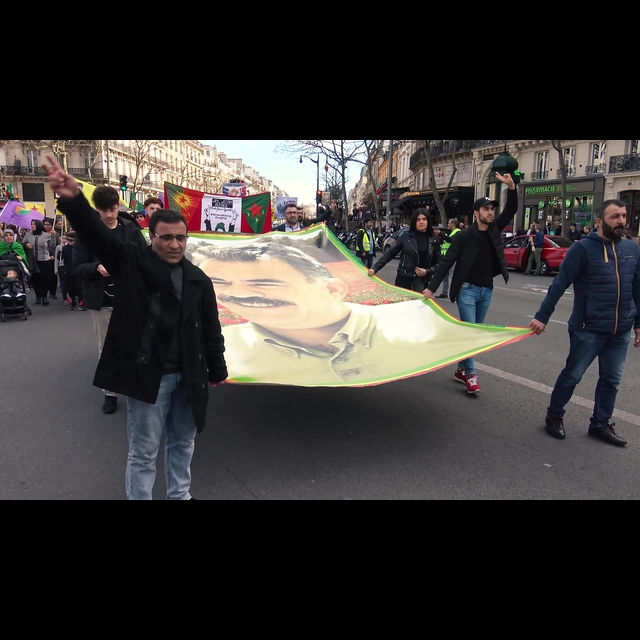ZI: (37, 148, 81, 205), (492, 169, 518, 190)
